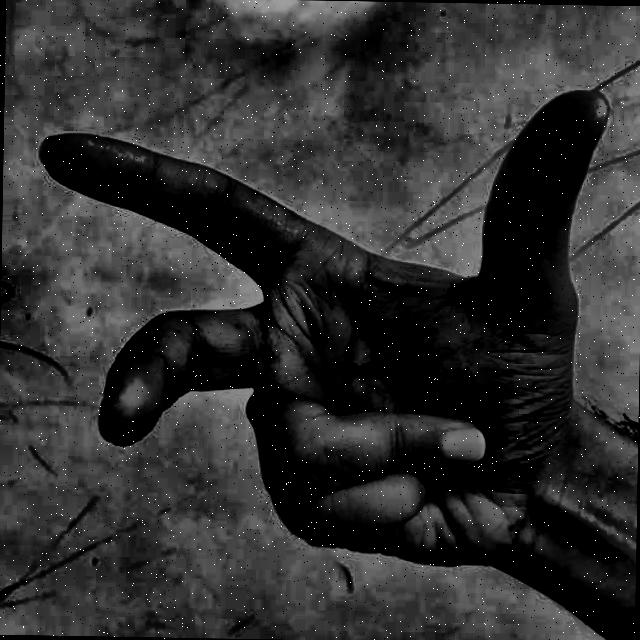Da: (20, 26, 621, 616)
